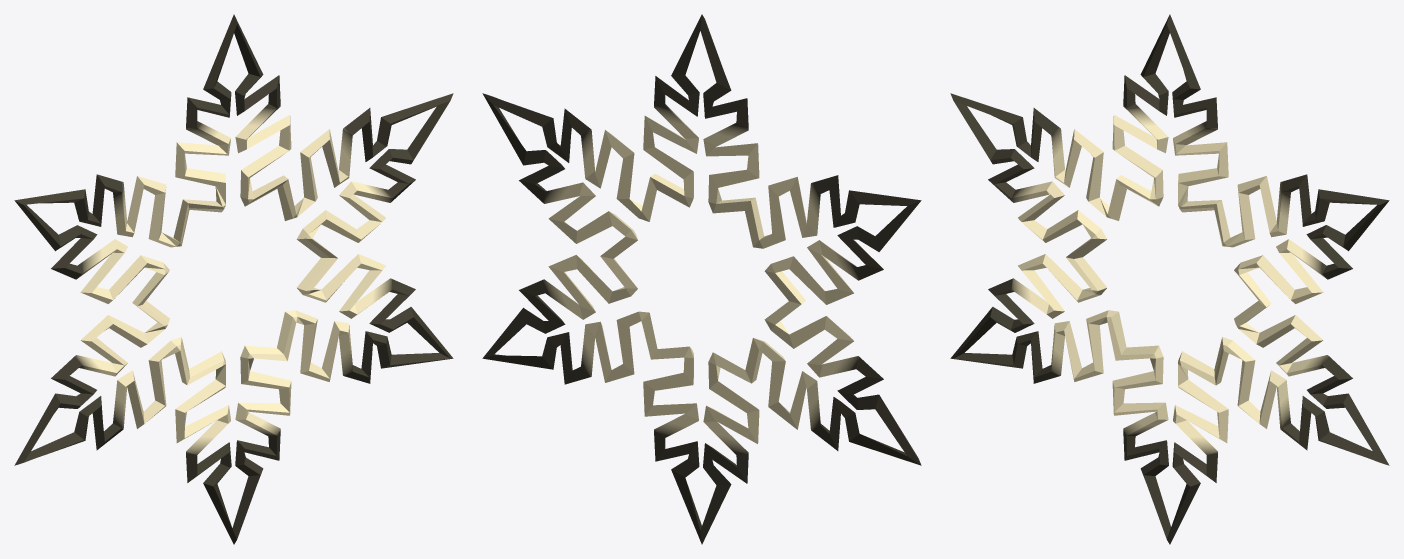
Rendered from SM_Prop_Neon_Snowflake_03.fbx.
The picture shows the model from 3 angles, left to right: view 1: azimuth 30°, elevation 25°; view 2: azimuth 150°, elevation 25°; view 3: azimuth 330°, elevation 25°; orthographic projection.
Visible parts, largest first — view 1: SM_Prop_Neon_Snowflake_03; view 2: SM_Prop_Neon_Snowflake_03; view 3: SM_Prop_Neon_Snowflake_03.
Boxes of the visible parts, box(x1,y1,x2,y2) form: SM_Prop_Neon_Snowflake_03: box(14, 14, 453, 544); SM_Prop_Neon_Snowflake_03: box(482, 14, 921, 544); SM_Prop_Neon_Snowflake_03: box(950, 14, 1389, 544).
Size of the model in its own units: 183 by 211 by 4.35.
